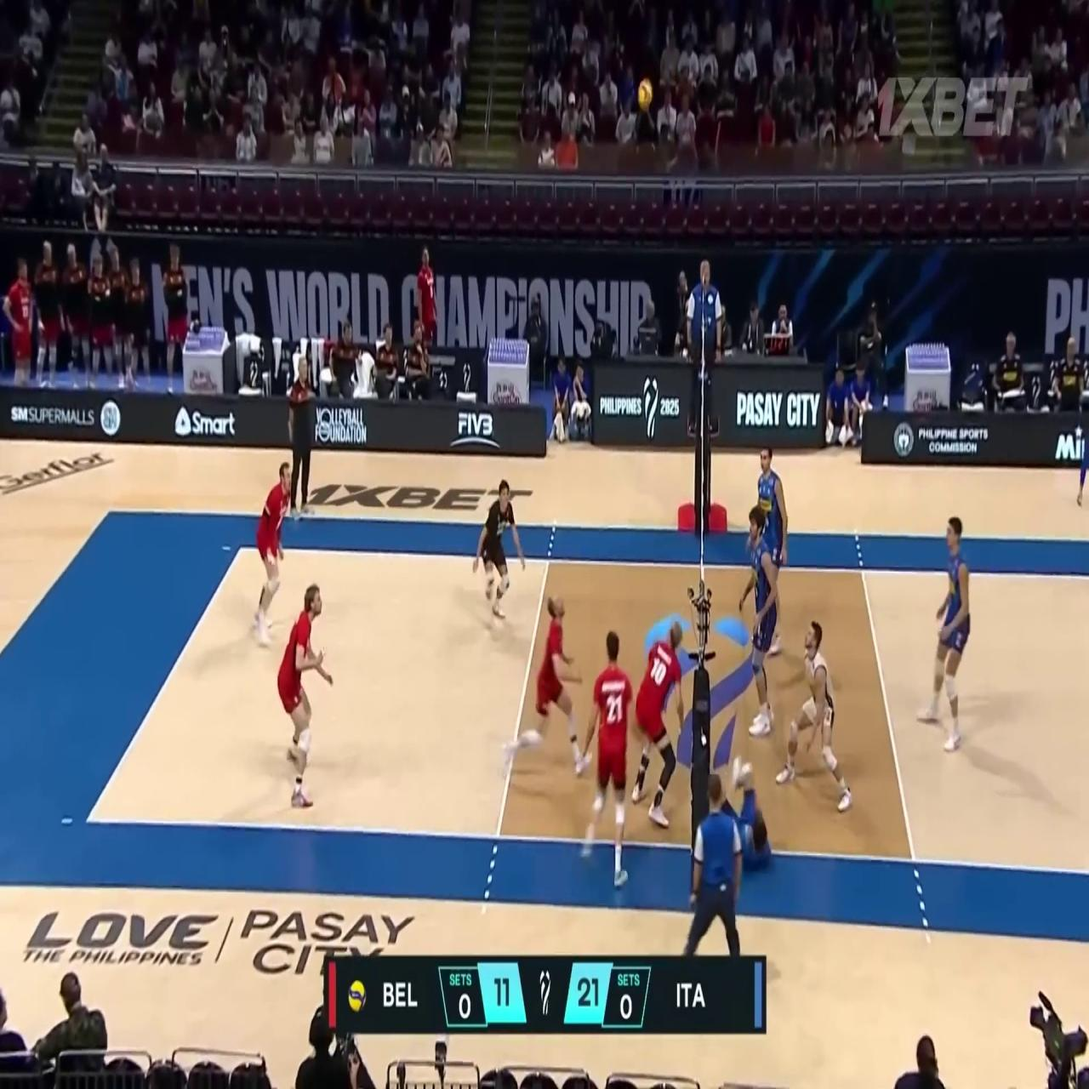ball: (637, 78, 653, 109)
